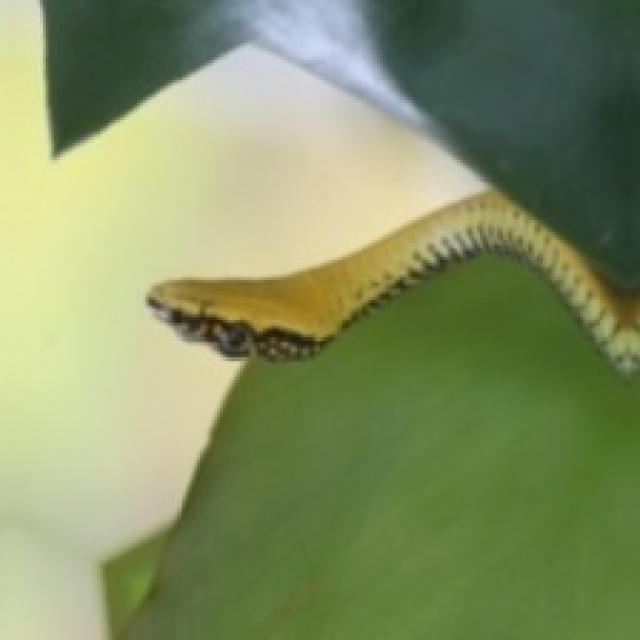paradise tree snake: (146, 191, 637, 371)
